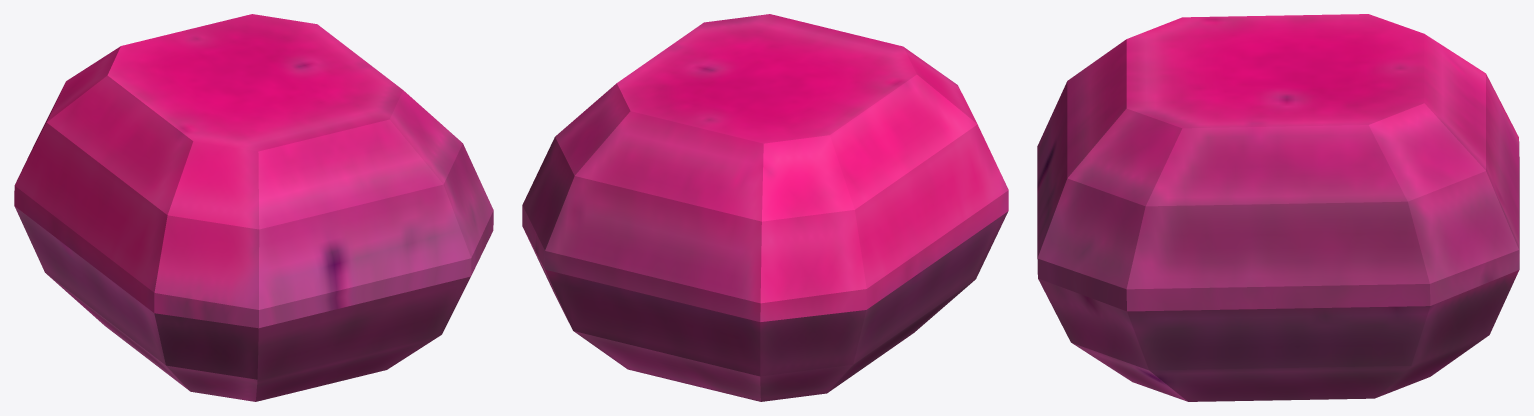
Rendered from gem_red.glb.
3 renders of one model, left to right at view 1: azimuth 30°, elevation 25°; view 2: azimuth 150°, elevation 25°; view 3: azimuth 270°, elevation 25°, orthographic. The views are drawn at different scales.
Visible parts, largest first — view 1: Gemstone_03.002; view 2: Gemstone_03.002; view 3: Gemstone_03.002.
Boxes of the visible parts, x1,y1,x2,y2 form: Gemstone_03.002: (14, 14, 493, 401); Gemstone_03.002: (522, 14, 1008, 401); Gemstone_03.002: (1037, 14, 1519, 401).
Bounding box in the file's own units: 2.74 × 1.99 × 3.11.
Materials: 1 (1 with a texture image).
